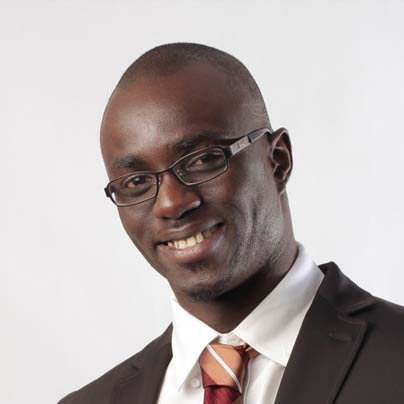noMask: (88, 43, 308, 293)
